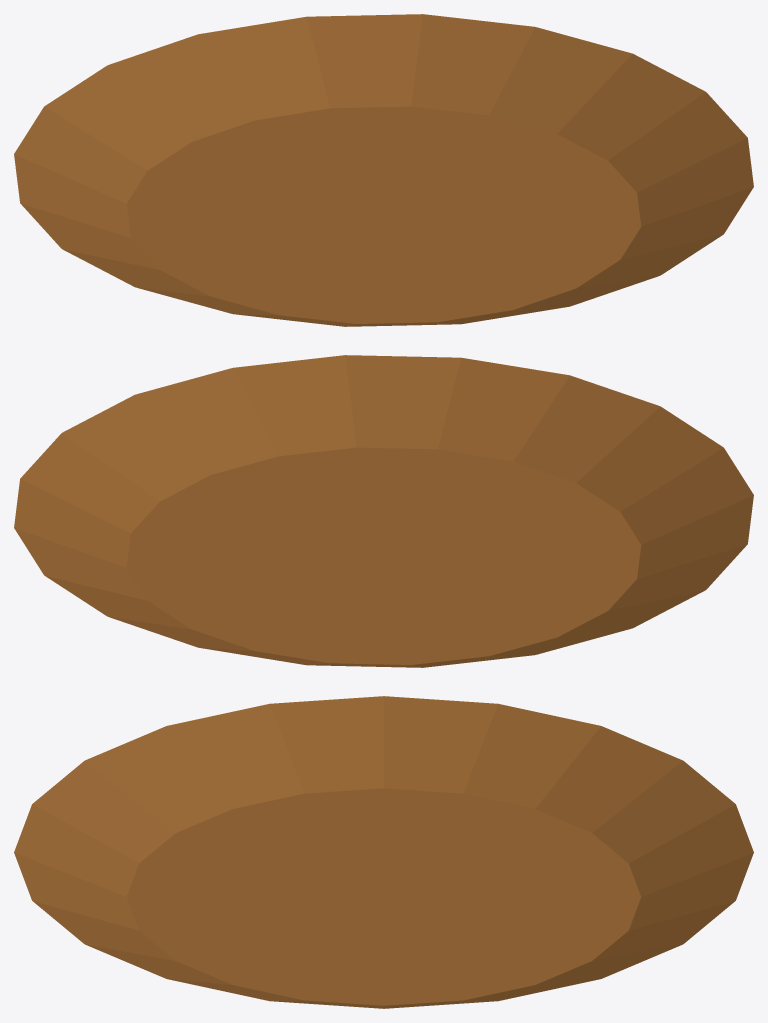
File: plate1B(F21).obj
3 renders of one model, top to bottom at view 1: azimuth 30°, elevation 25°; view 2: azimuth 150°, elevation 25°; view 3: azimuth 270°, elevation 25°, orthographic.
Visible parts, largest first — view 1: Cylinder.004; view 2: Cylinder.004; view 3: Cylinder.004.
Boxes of the visible parts, x1,y1,x2,y2 form: Cylinder.004: [14, 14, 753, 326]; Cylinder.004: [14, 355, 753, 667]; Cylinder.004: [14, 696, 753, 1008].
Bounding box in the file's own units: 2.88 × 0.1912 × 2.88.
